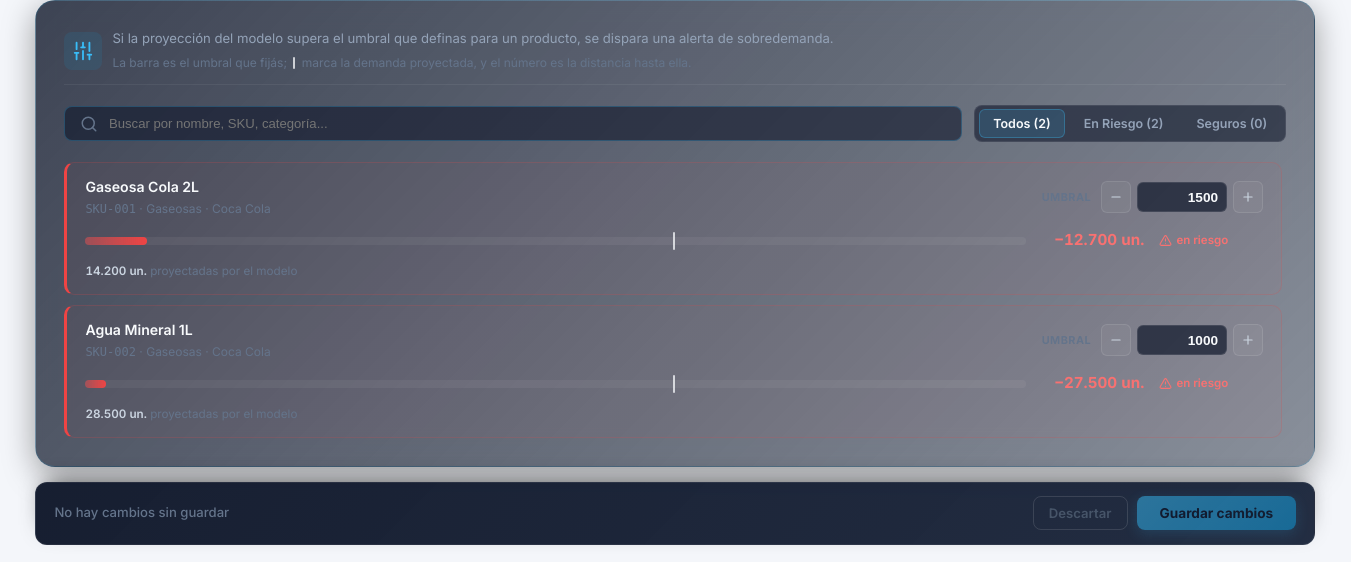
Test case: SettingsView › filtrado del catalogo › busca por nombre de producto
Check: the text "Gaseosa Cola 2L" is shown, box [85,178,199,195]
Type "Agua" into the field with placeholder "Buscar por nombre, SKU, categoría..." at point(513, 124), box [64,106,962,141]
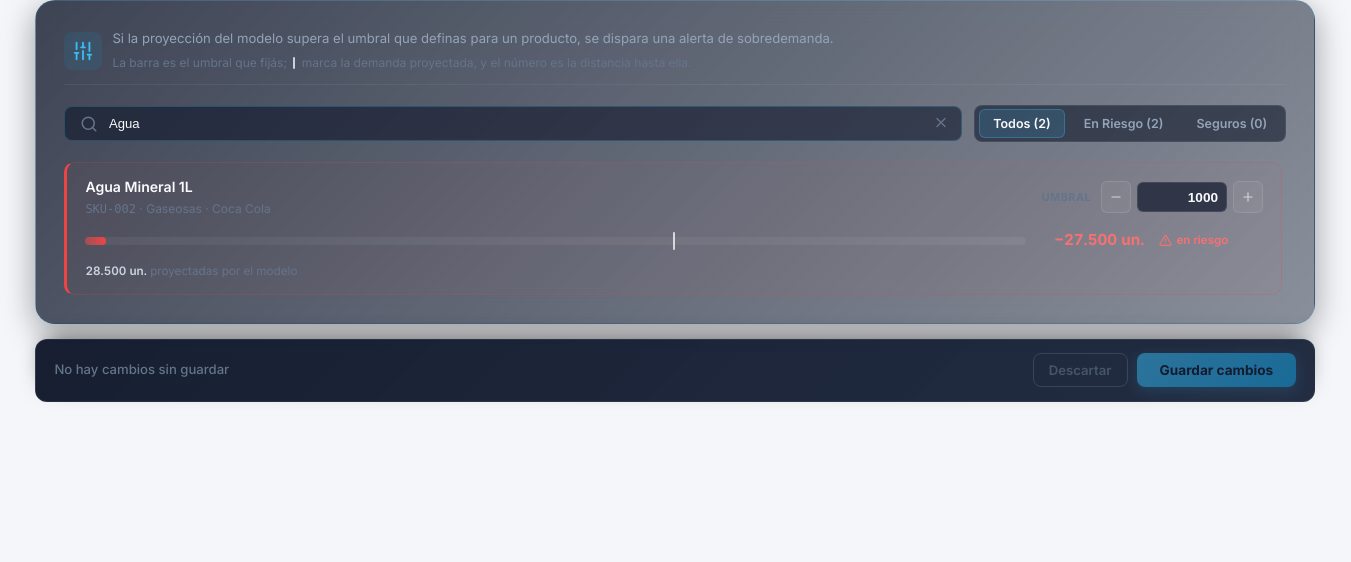
Check: the text "Agua Mineral 1L" is shown, box [85,178,193,195]
Check: the text "Gaseosa Cola 2L" is gone
